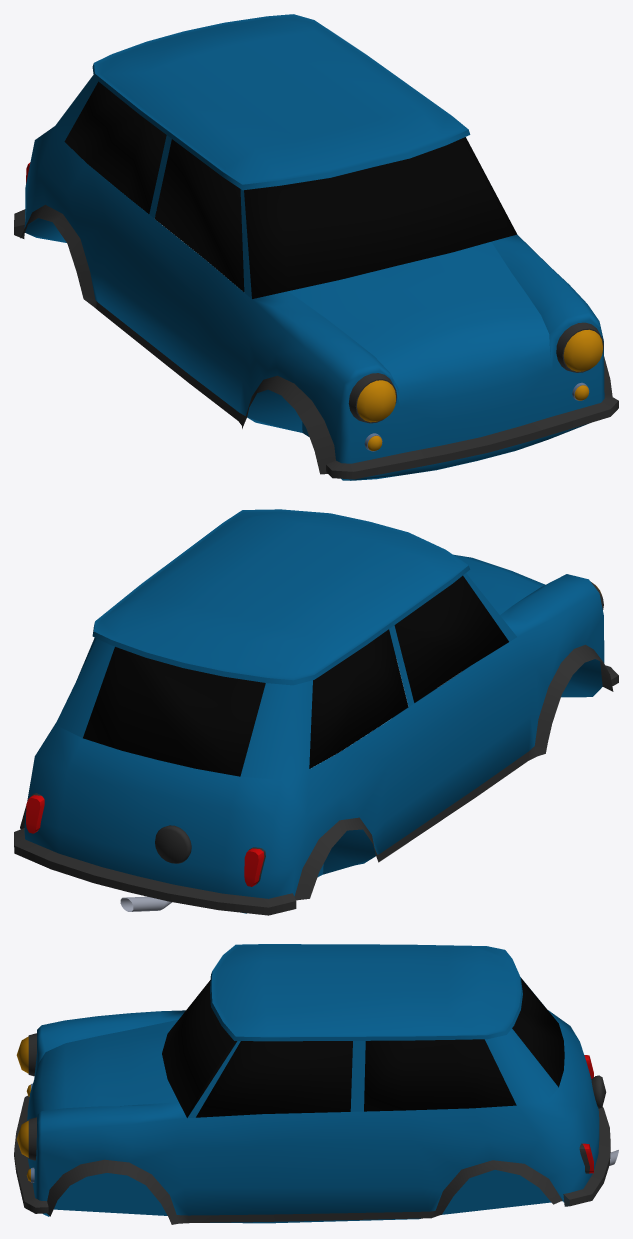
File: car_2.fbx
The picture shows the model from 3 angles, top to bottom: view 1: azimuth 30°, elevation 25°; view 2: azimuth 150°, elevation 25°; view 3: azimuth 270°, elevation 25°; orthographic projection. The views are drawn at different scales.
Parts seen in each view (by area): view 1: body_geo #370564, body_geo #370564.002; view 2: body_geo #370564, body_geo #370564.002; view 3: body_geo #370564, body_geo #370564.002.
Part boxes in pixels (x1,y1,x2,y2): body_geo #370564: (14, 14, 618, 480); body_geo #370564.002: (64, 81, 517, 298); body_geo #370564: (14, 509, 618, 915); body_geo #370564.002: (81, 575, 508, 776); body_geo #370564: (14, 944, 618, 1224); body_geo #370564.002: (162, 977, 564, 1117).
Bounding box in the file's own units: 150 × 117 × 310.
